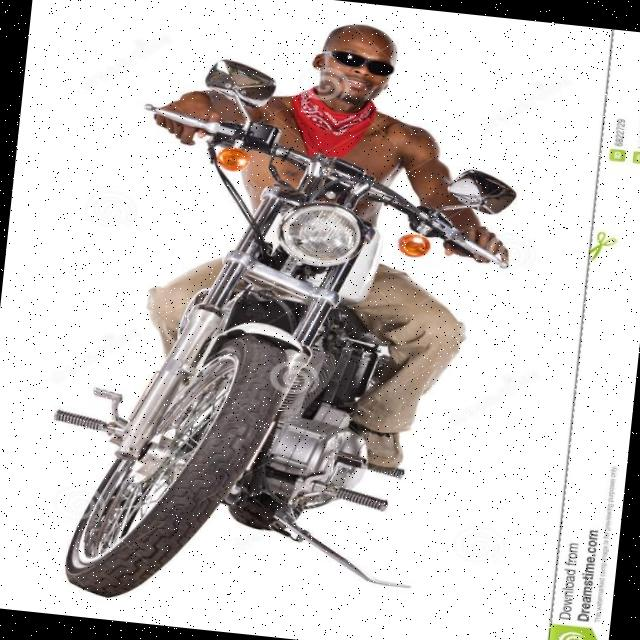No helmet: (304, 15, 406, 119)
